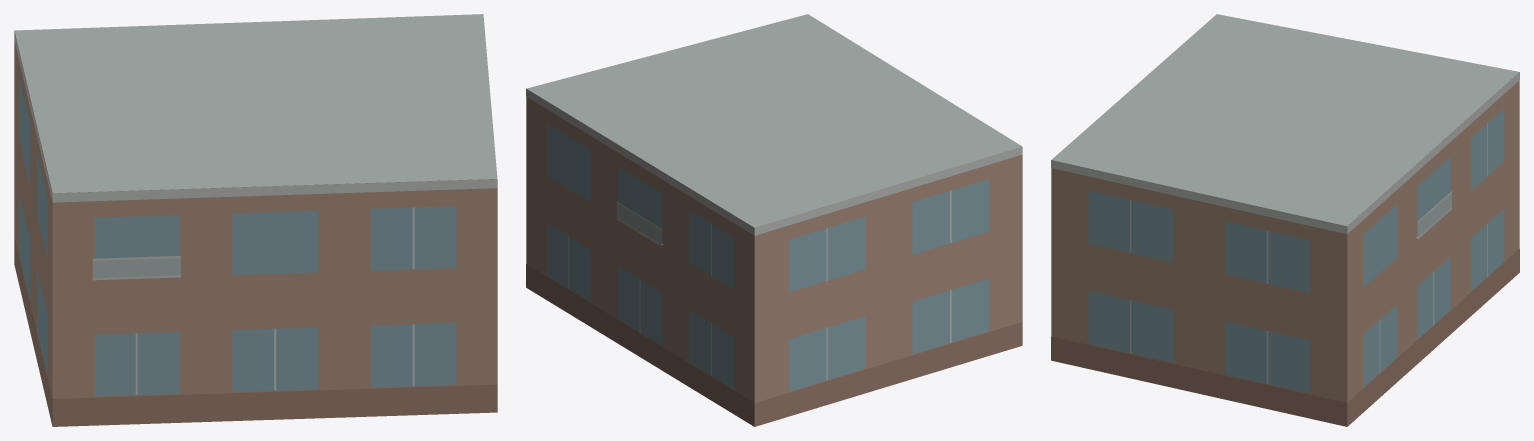
Rendered from survey-upis-32892934.glb.
The picture shows the model from 3 angles, left to right: view 1: azimuth 30°, elevation 25°; view 2: azimuth 150°, elevation 25°; view 3: azimuth 270°, elevation 25°; orthographic projection. The views are drawn at different scales.
Visible parts, largest first — view 1: survey-upis-32892934.tmp; view 2: survey-upis-32892934.tmp; view 3: survey-upis-32892934.tmp.
Boxes of the visible parts, box(x1,y1,x2,y2) form: survey-upis-32892934.tmp: box(14, 14, 497, 426); survey-upis-32892934.tmp: box(526, 14, 1022, 426); survey-upis-32892934.tmp: box(1051, 14, 1519, 426).
Size of the model in its own units: 13.86 by 6.1 by 12.93.
